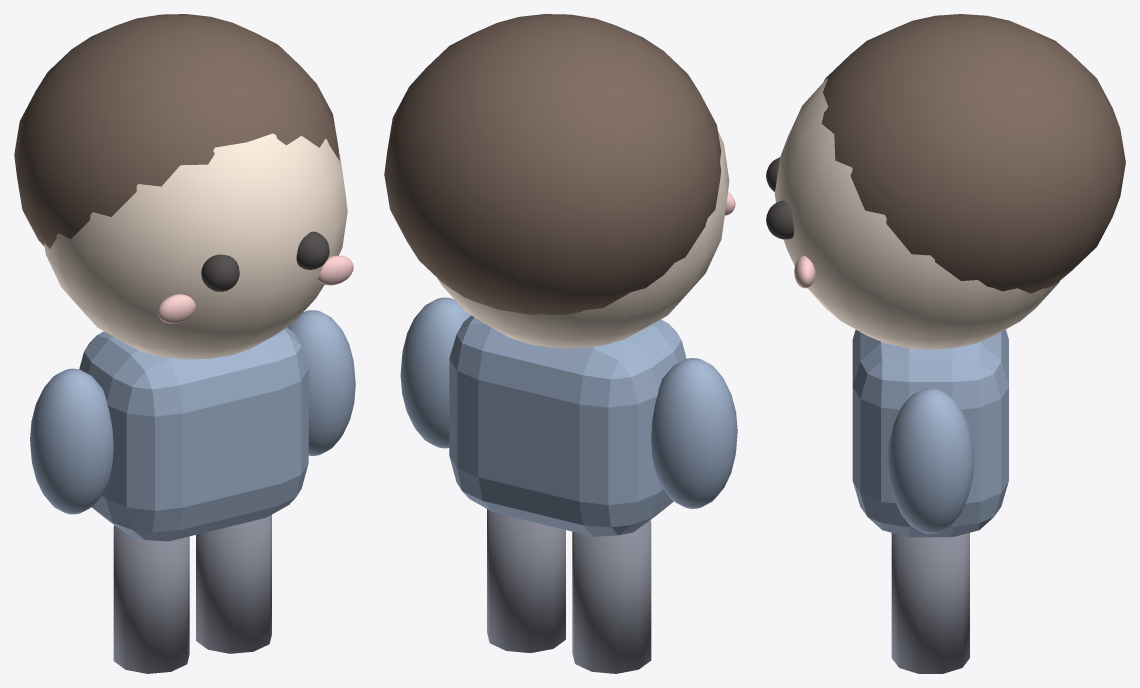
File: person.glb
3 views of the same model, side by side, from view 1: azimuth 30°, elevation 25°; view 2: azimuth 150°, elevation 25°; view 3: azimuth 270°, elevation 25° (orthographic). The views are drawn at different scales.
Visible parts, largest first — view 1: person; view 2: person; view 3: person.
Part boxes in pixels (x1=…): person: x1=14, y1=14, x2=355, y2=673; person: x1=384, y1=14, x2=737, y2=673; person: x1=766, y1=14, x2=1125, y2=673.
Size of the model in its own units: 0.84 by 1.54 by 0.83.
